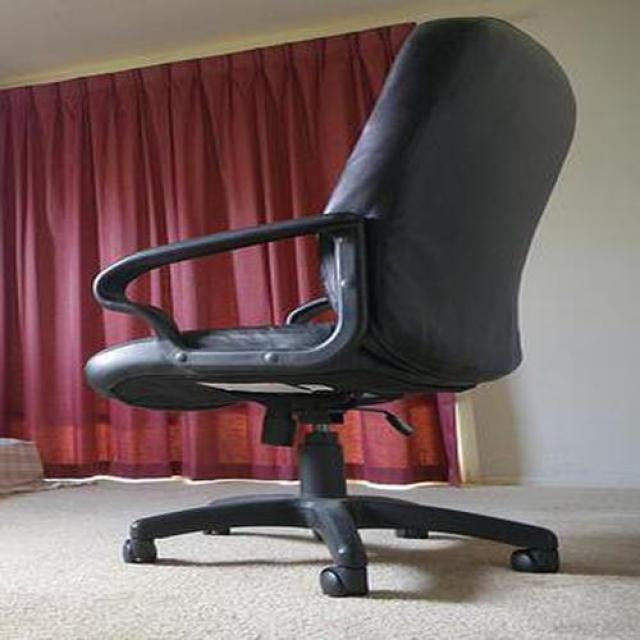swivelchair: (83, 18, 577, 600)
